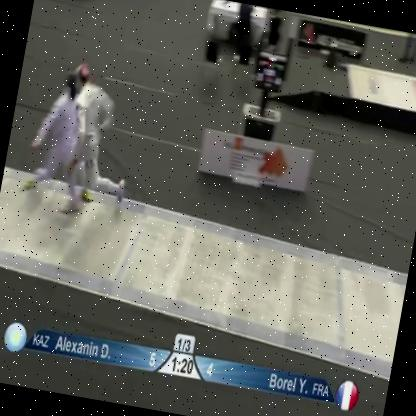fencer: (46, 52, 150, 232), (17, 64, 101, 217)
